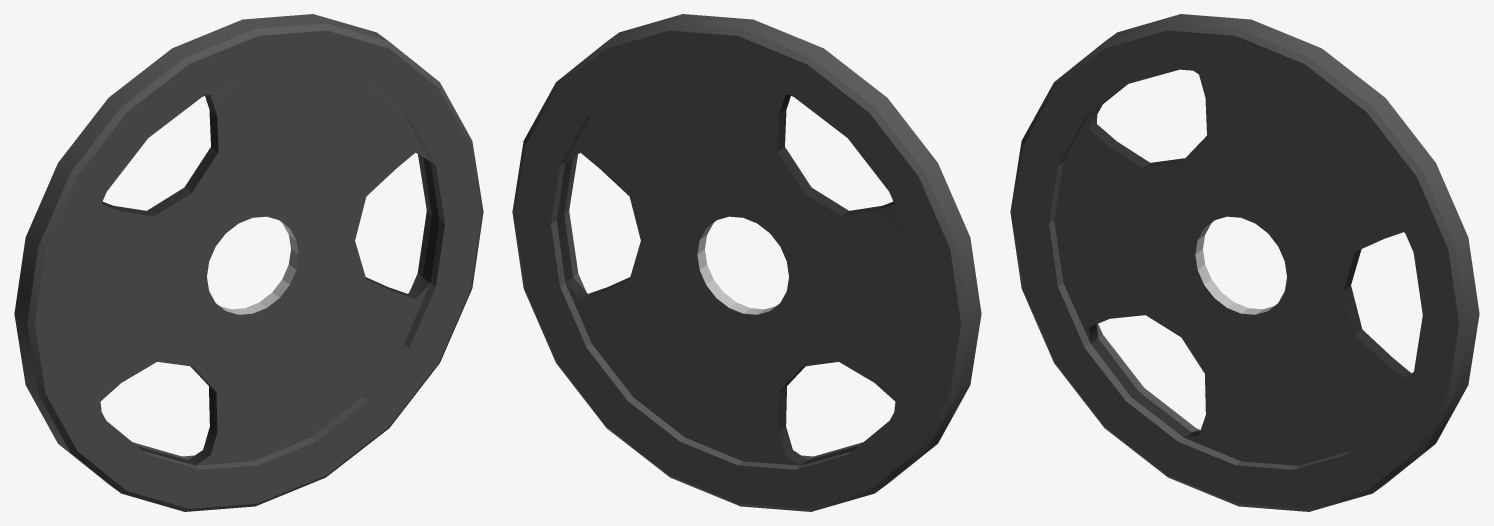
File: PlateModle04.fbx
The picture shows the model from 3 angles, left to right: view 1: azimuth 30°, elevation 25°; view 2: azimuth 150°, elevation 25°; view 3: azimuth 330°, elevation 25°; orthographic projection.
Visible parts, largest first — view 1: Plate; view 2: Plate; view 3: Plate.
Boxes of the visible parts, x1,y1,x2,y2 form: Plate: [14, 14, 483, 511]; Plate: [512, 14, 981, 511]; Plate: [1010, 14, 1479, 511].
Size of the model in its own units: 72 by 72 by 5.
